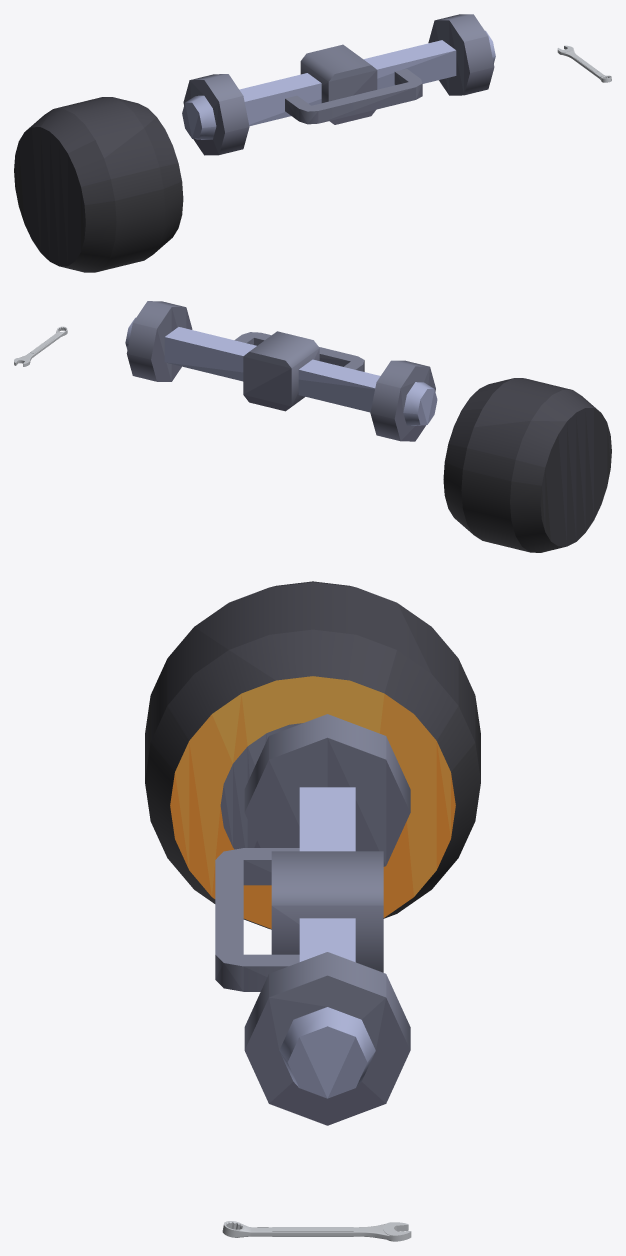
Rendered from mechanica-parts.glb.
3 views of the same model, one above another, from view 1: azimuth 30°, elevation 25°; view 2: azimuth 150°, elevation 25°; view 3: azimuth 270°, elevation 25° (orthographic). The views are drawn at different scales.
Visible parts, largest first — view 1: wheel, axle, spanner; view 2: wheel, axle, spanner; view 3: wheel, axle, spanner.
Boxes of the visible parts, x1,y1,x2,y2 form: wheel: [14, 97, 183, 272]; axle: [182, 14, 495, 155]; spanner: [557, 45, 611, 82]; wheel: [443, 378, 611, 552]; axle: [125, 301, 437, 441]; spanner: [14, 326, 67, 366]; wheel: [145, 581, 480, 929]; axle: [215, 714, 410, 1125]; spanner: [222, 1221, 411, 1241].
Bounding box in the file's own units: 2.23 × 0.6 × 0.6.
